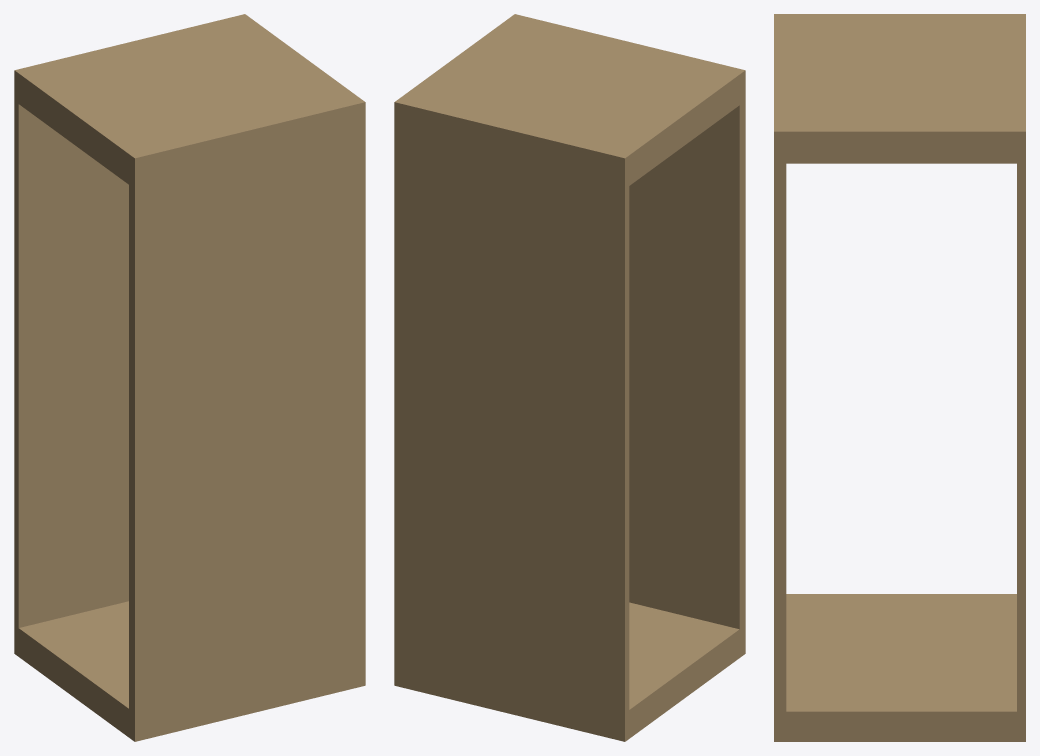
File: bigDoorFrame.fbx
3 renders of one model, left to right at view 1: azimuth 30°, elevation 25°; view 2: azimuth 150°, elevation 25°; view 3: azimuth 270°, elevation 25°, orthographic. The views are drawn at different scales.
Visible parts, largest first — view 1: Cube.008; view 2: Cube.008; view 3: Cube.008.
Part boxes in pixels (bbox=[...]): Cube.008: bbox=[14, 14, 365, 741]; Cube.008: bbox=[394, 14, 745, 741]; Cube.008: bbox=[774, 14, 1025, 741].
Size of the model in its own units: 12.61 by 30.48 by 11.4.
